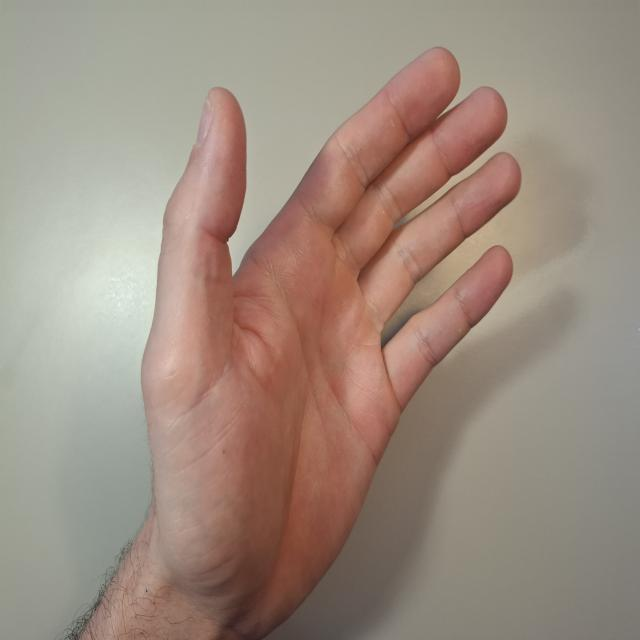glove_off: (138, 43, 525, 627)
